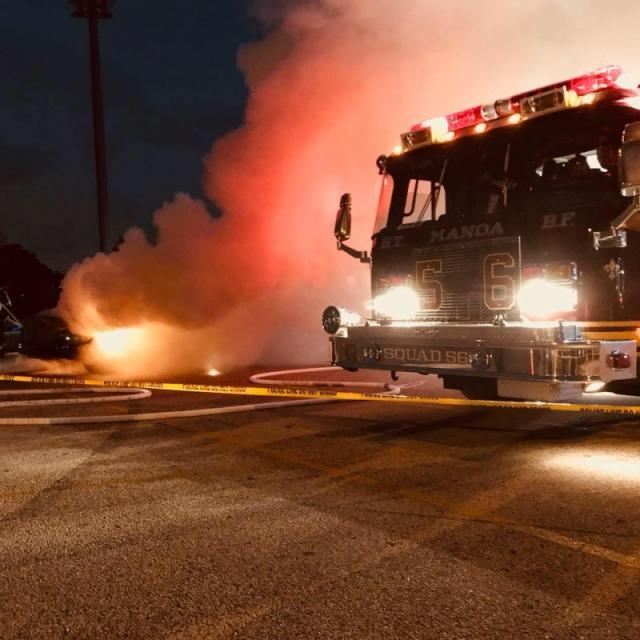Fire: (54, 271, 155, 383)
Smoke: (158, 94, 364, 370), (288, 0, 640, 104)
